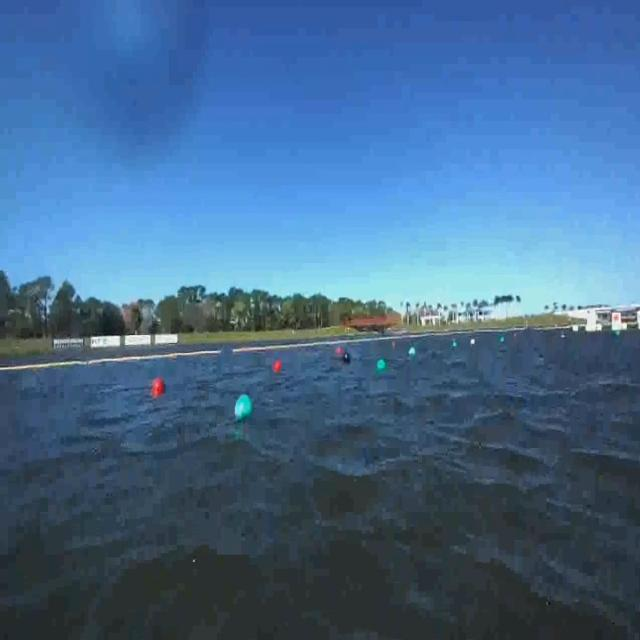black-buoy: (343, 354, 351, 364)
green-buoy: (233, 396, 251, 423), (378, 358, 387, 371)
red-buoy: (152, 378, 166, 398), (274, 360, 282, 372)
